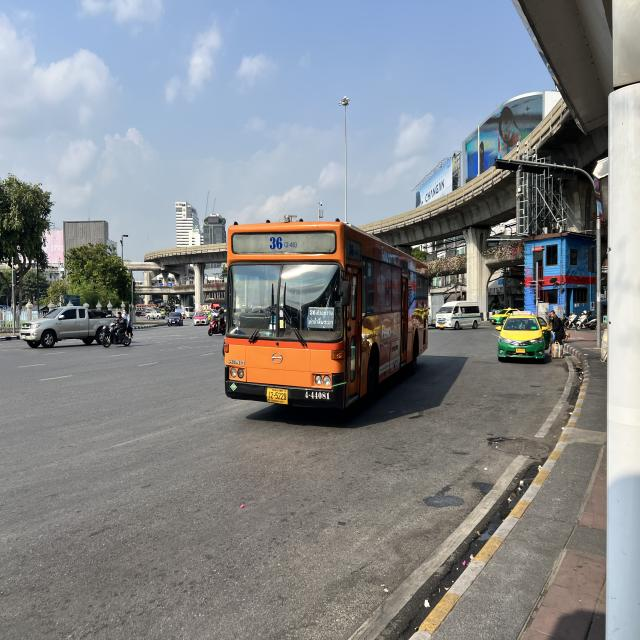BMTA-bus: (221, 220, 429, 419)
Bus-Line-Number: (266, 234, 299, 252)
Destination-Sign-Normal: (307, 307, 335, 330)
